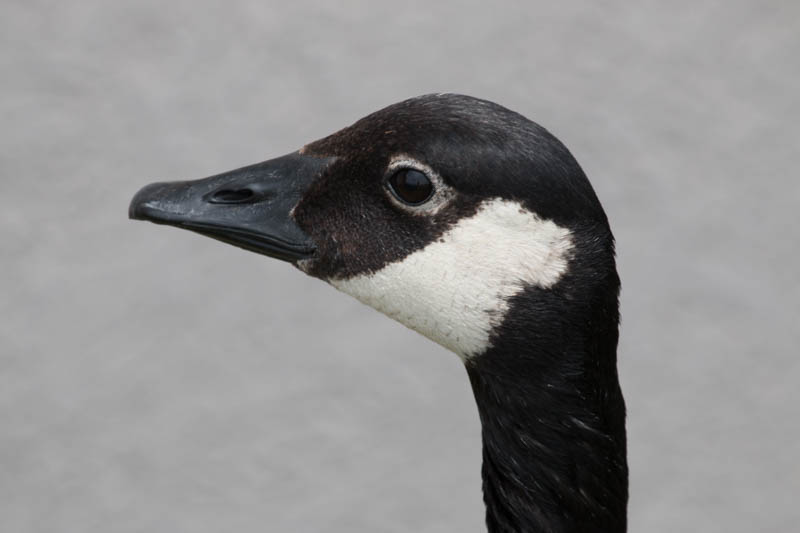goose-head: (127, 93, 620, 366)
